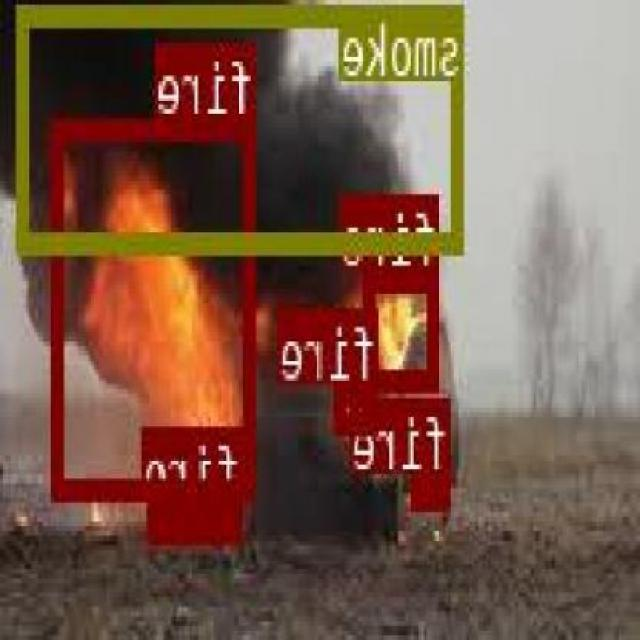Fire: (56, 116, 258, 493), (366, 266, 442, 386), (149, 500, 243, 538), (336, 382, 381, 426), (416, 470, 452, 506)
Smoke: (21, 3, 466, 252)
